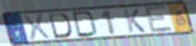1: (100, 9, 117, 36)
D: (71, 10, 100, 38), (47, 12, 73, 39)
E: (142, 5, 175, 35)
K: (122, 8, 148, 33)
X: (22, 13, 52, 41)
